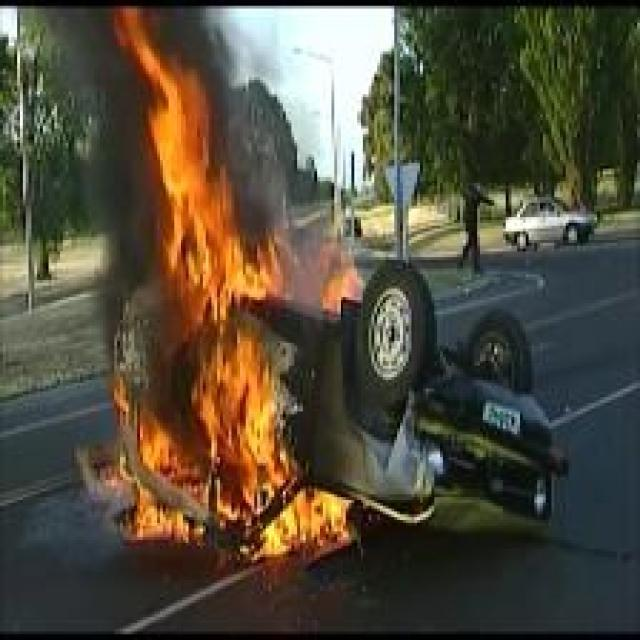Fire: (113, 9, 361, 562)
